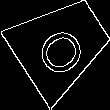O_NE: (30, 13, 93, 77)
